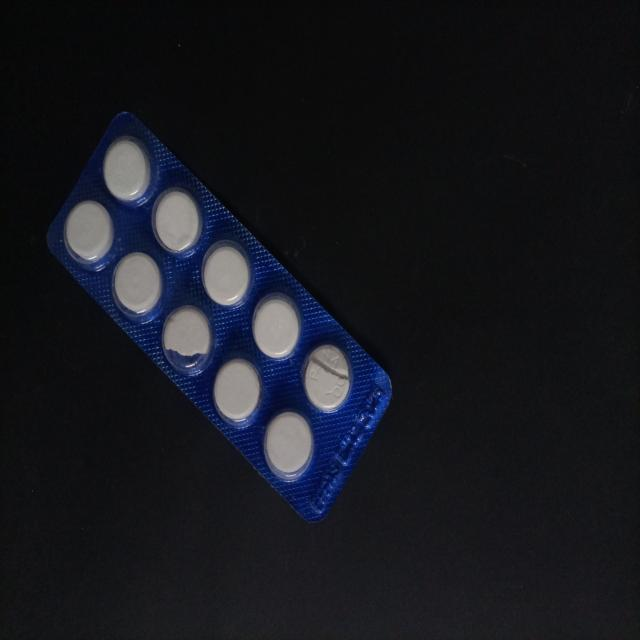defect: (160, 300, 214, 378), (300, 341, 354, 416)
